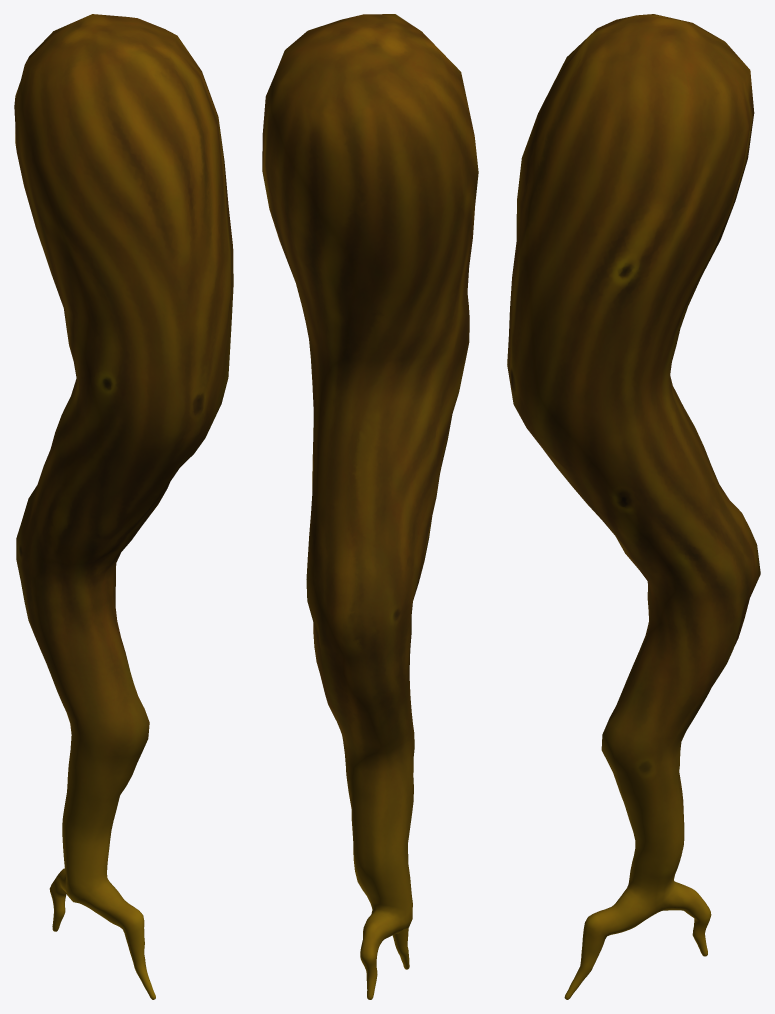
3 renders of one model, left to right at view 1: azimuth 30°, elevation 25°; view 2: azimuth 150°, elevation 25°; view 3: azimuth 270°, elevation 25°, orthographic. The views are drawn at different scales.
Parts seen in each view (by area): view 1: SM_Root_3_LOD0; view 2: SM_Root_3_LOD0; view 3: SM_Root_3_LOD0.
Part boxes in pixels (x1,y1,x2,y2): SM_Root_3_LOD0: [14, 14, 233, 999]; SM_Root_3_LOD0: [262, 14, 478, 999]; SM_Root_3_LOD0: [507, 14, 760, 999].
Size of the model in its own units: 157 by 184 by 779.
1 material, 1 textured.
